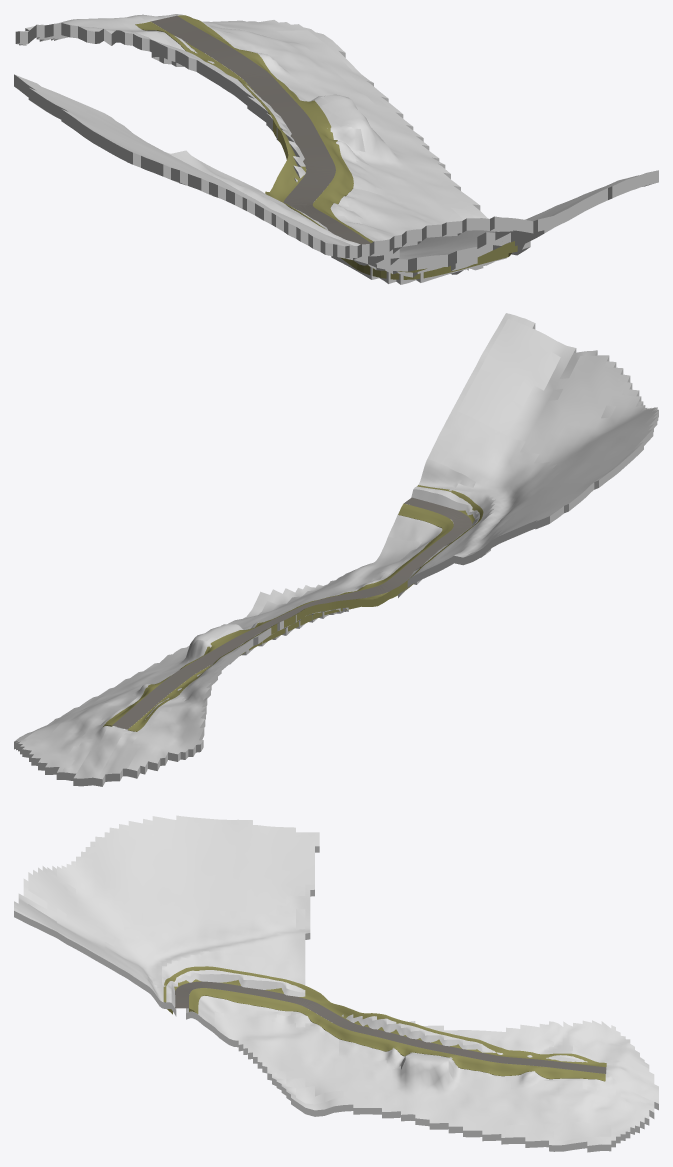
File: conz_112.glb
3 views of the same model, one above another, from view 1: azimuth 30°, elevation 25°; view 2: azimuth 150°, elevation 25°; view 3: azimuth 270°, elevation 25° (orthographic). The views are drawn at different scales.
Visible parts, largest first — view 1: terrain112, road112, verge112R, verge112L; view 2: terrain112, road112, verge112R, verge112L; view 3: terrain112, verge112L, road112, verge112R.
Boxes of the visible parts, x1,y1,x2,y2 form: terrain112: [14, 14, 658, 284]; road112: [151, 15, 370, 244]; verge112R: [135, 21, 517, 279]; verge112L: [177, 15, 373, 242]; terrain112: [14, 313, 658, 786]; road112: [112, 497, 471, 729]; verge112R: [128, 485, 483, 731]; verge112L: [103, 503, 453, 726]; terrain112: [14, 815, 658, 1152]; verge112L: [189, 988, 605, 1081]; road112: [175, 981, 606, 1073]; verge112R: [163, 966, 606, 1067].
Bounding box in the file's own units: 154 × 85.29 × 270.
